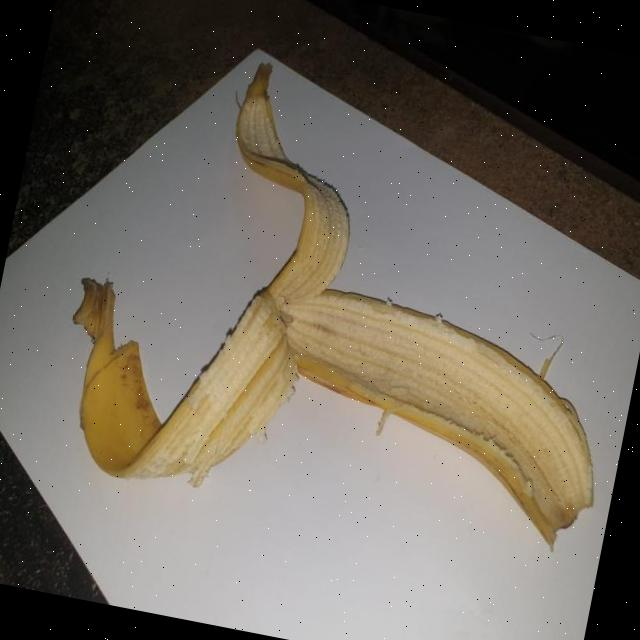banana-peel: (42, 32, 640, 567), (240, 276, 624, 558)
